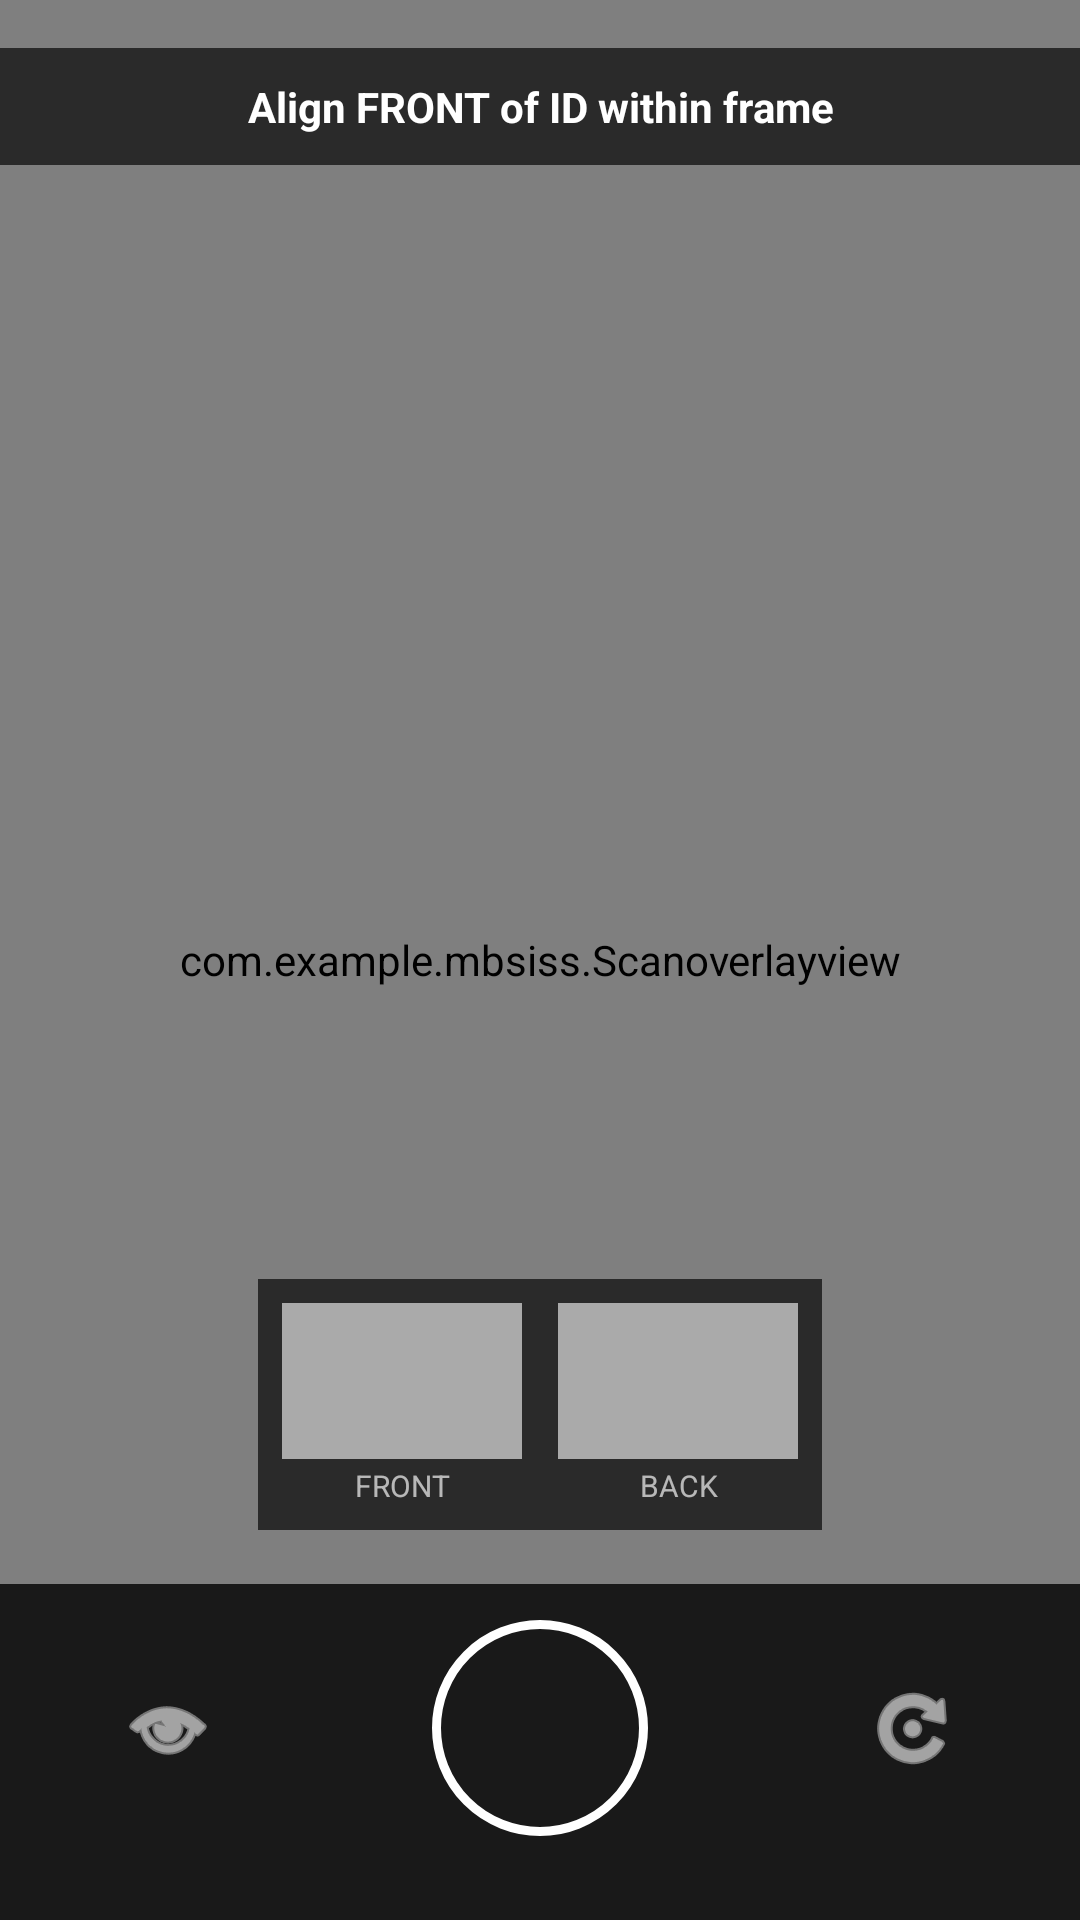

Icon click points for this 1080w x 1920h phone screenshot, format [x,y]:
Flip camera: [912,1728]
